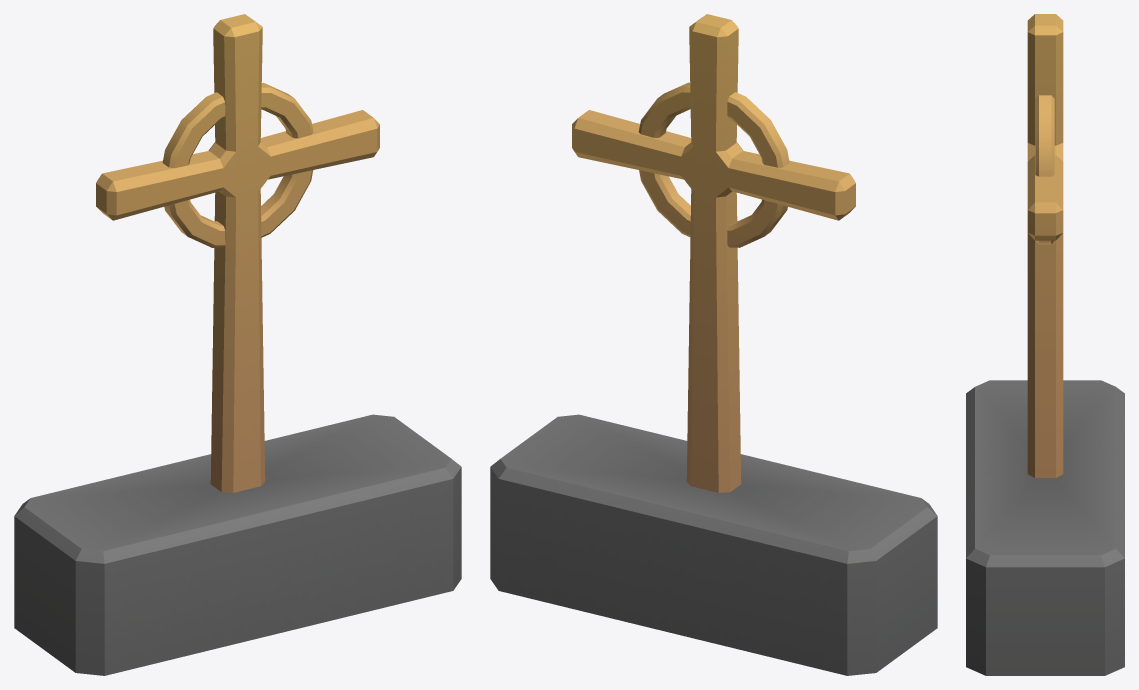
Rendered from Tombstone_Cross2_Gold.fbx.
3 renders of one model, left to right at view 1: azimuth 30°, elevation 25°; view 2: azimuth 150°, elevation 25°; view 3: azimuth 270°, elevation 25°, orthographic. The views are drawn at different scales.
Visible parts, largest first — view 1: Tombstone_Cross2_Gold; view 2: Tombstone_Cross2_Gold; view 3: Tombstone_Cross2_Gold.
Part boxes in pixels (bbox=[...]): Tombstone_Cross2_Gold: bbox=[14, 14, 461, 675]; Tombstone_Cross2_Gold: bbox=[490, 14, 937, 675]; Tombstone_Cross2_Gold: bbox=[966, 14, 1124, 675].
Bounding box in the file's own units: 1.16 × 1.68 × 0.4277.
1 material, 1 textured.
